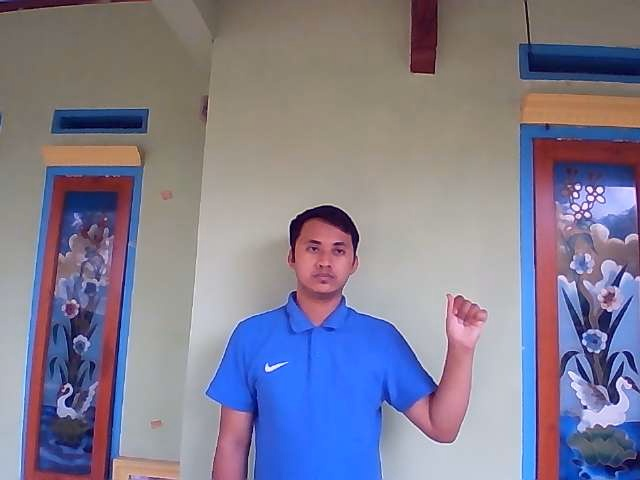A: (444, 293, 489, 343)
